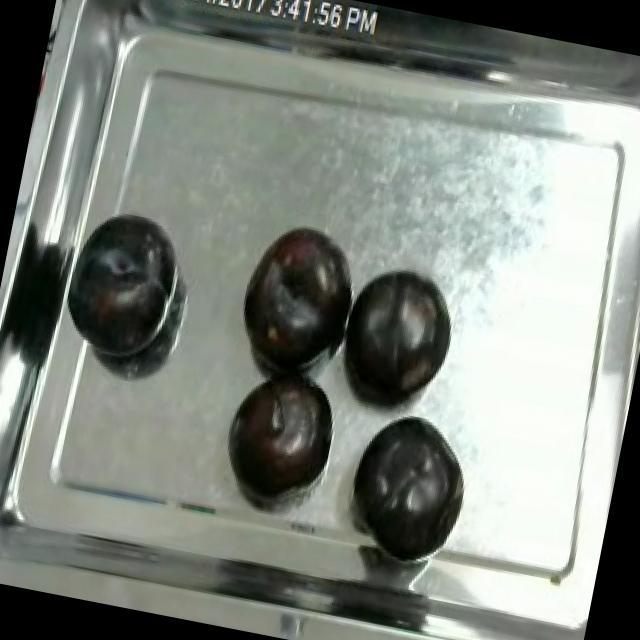Fruit: (53, 196, 193, 373), (336, 402, 475, 572), (229, 209, 364, 379), (332, 255, 462, 418), (214, 363, 344, 507)
